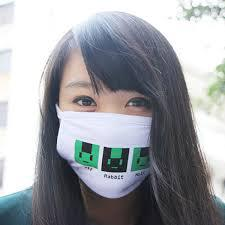OK: (53, 74, 168, 200)
